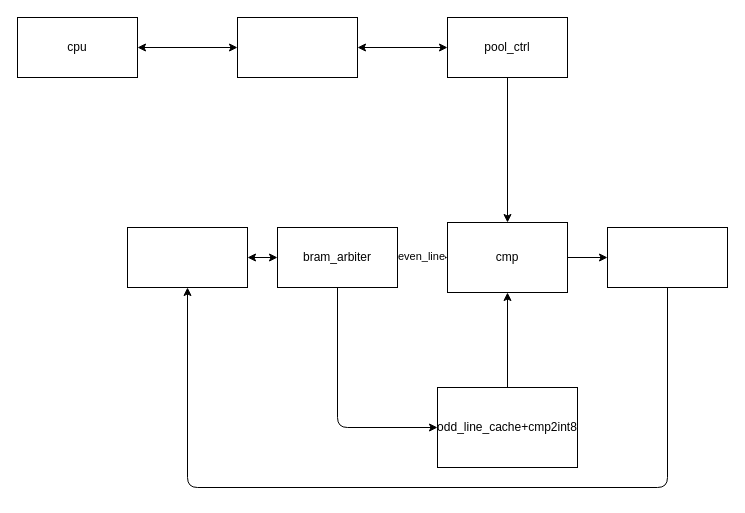
This 745x513 diagram has some shape labels left out. The shapes that lost their labels are listed below. From the top down, each one's box as (x1, y1, x2, y2) in pixels, then its label:
(236, 16, 358, 78): pool_reg
(126, 226, 248, 288): bram
(606, 226, 728, 288): 输出拼接+写回
